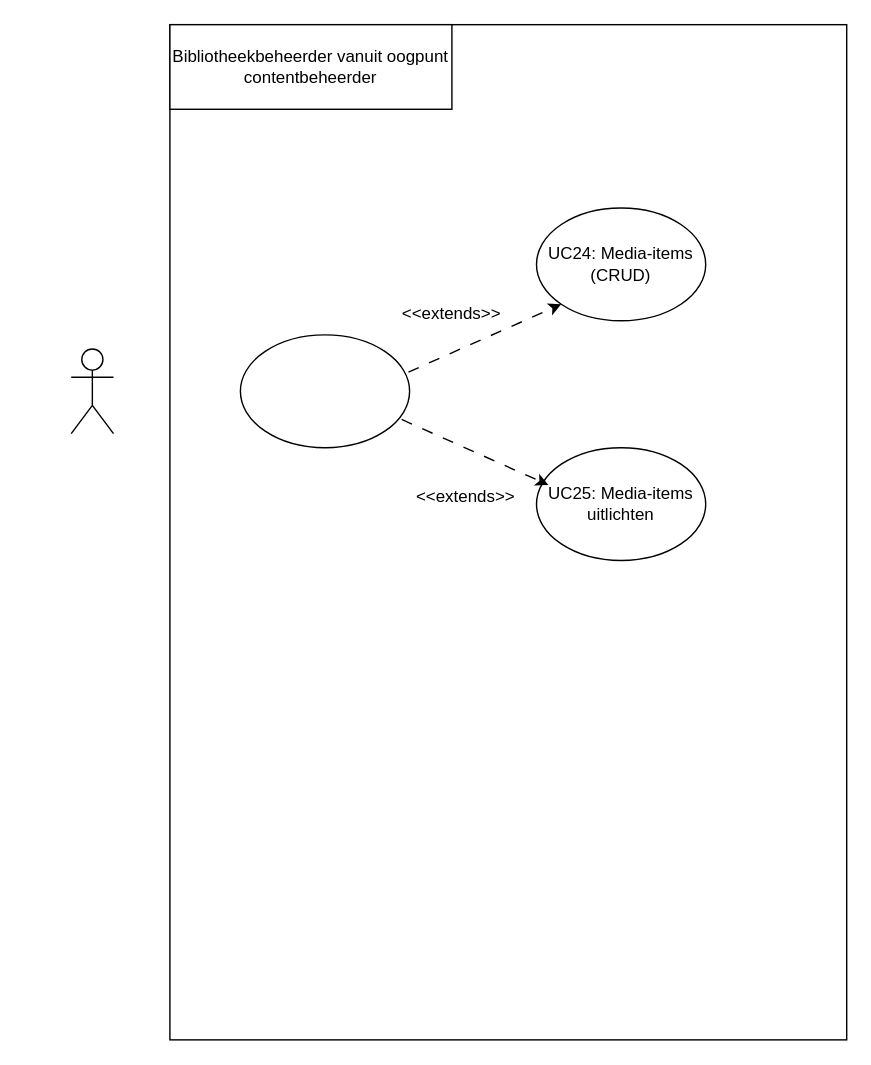
This 871x1065 diagram has some shape labels left out. The shapes that lost their labels are listed below. From the top down, each one's centre as x and y in pixels, then its label:
At (92,391): "Contentbeheerder".
At (324,390): "UC23: Catalogus inzien".
